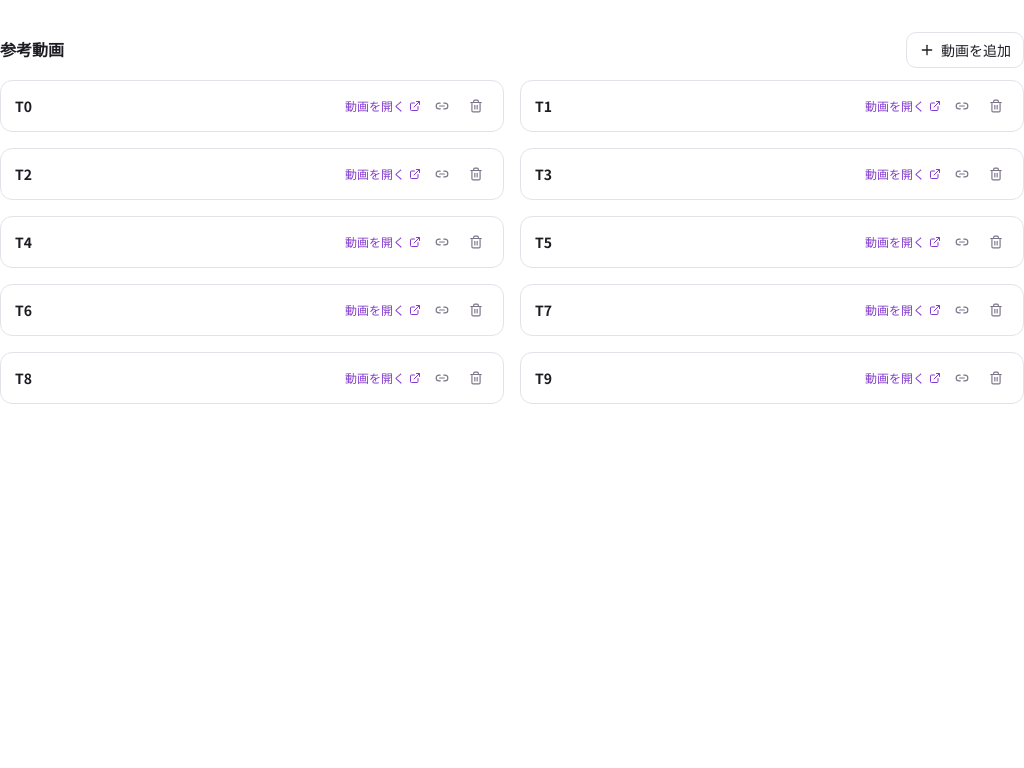
Scenario: 追加（主将・幹部） › 上限（10本）に達していたら、追加させない
Expected: the text "T0" is shown, [15,96,32,116]
Click the button "動画を追加": x=965, y=50 [906,32,1023,68]
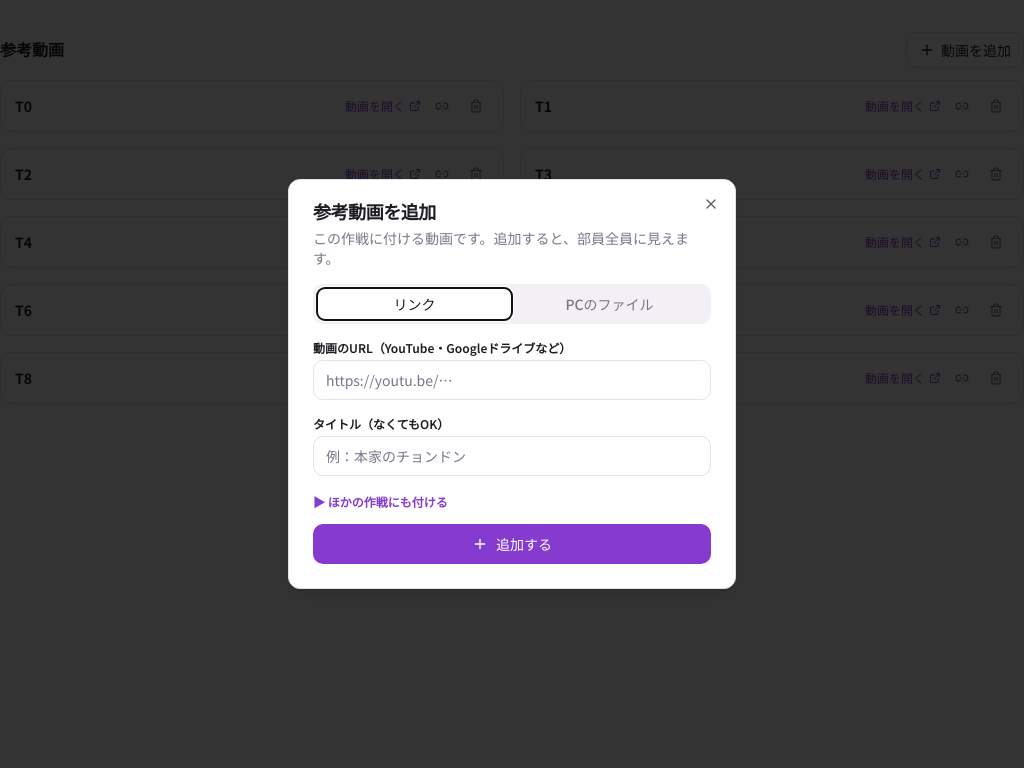
In the field with id "tv-url": x=512, y=380 [313,360,711,400], type "https://example.com/new"
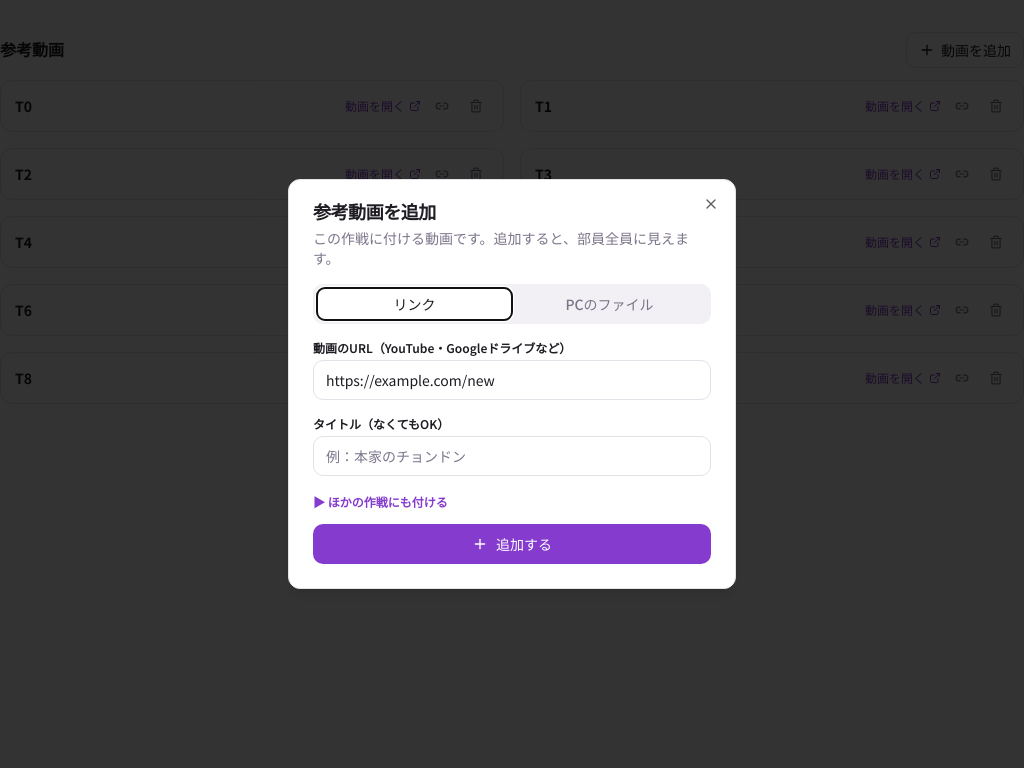
Click the button "追加する": x=512, y=544 [313,524,711,564]
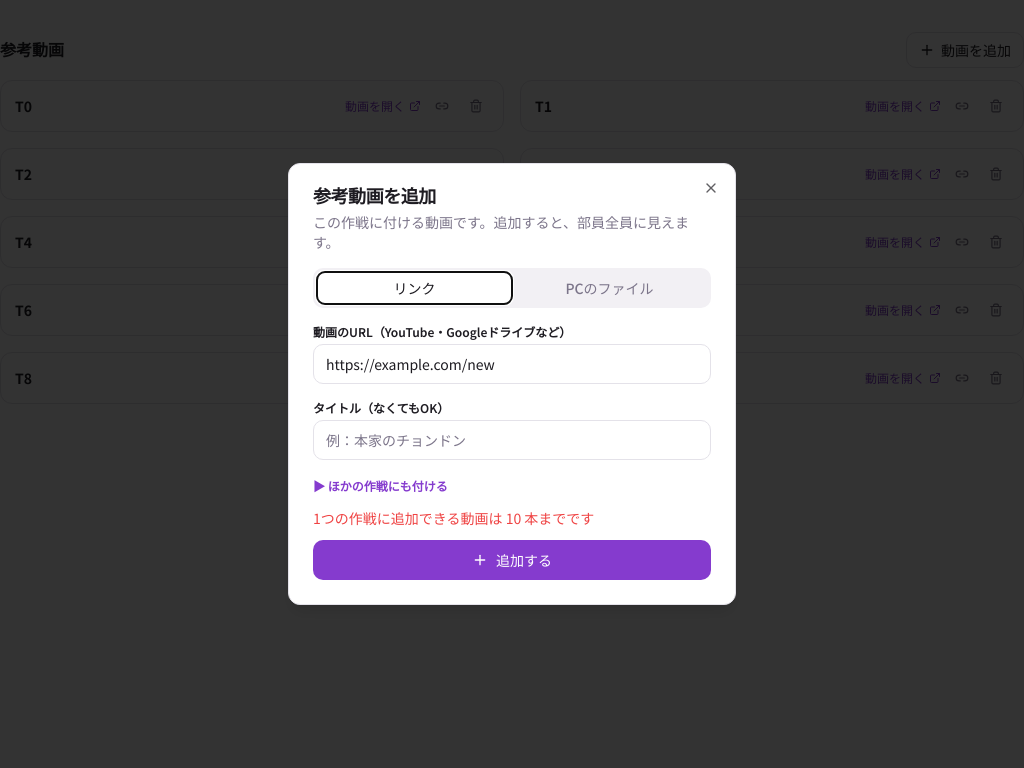
Expected: the message shows "10 本まで", [313,508,594,528]
